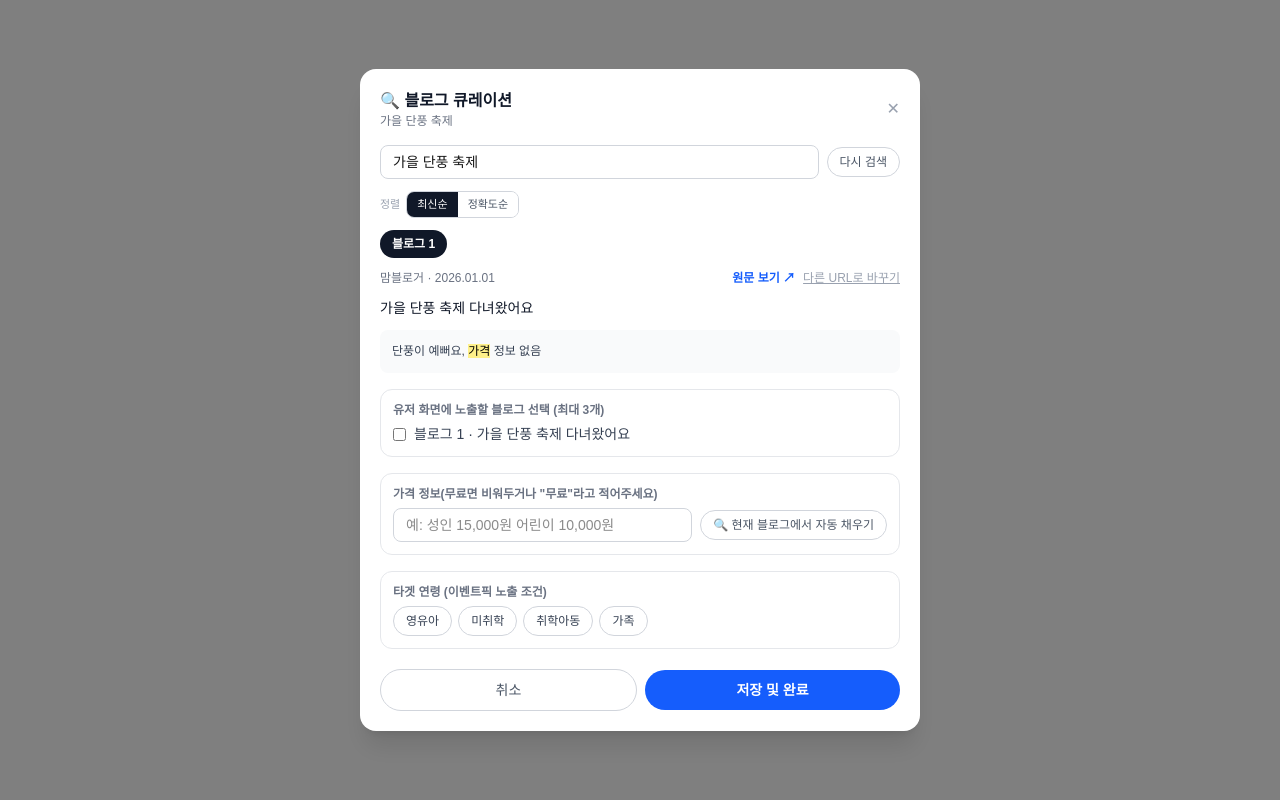
it: EventBlogCurationModal › 블로그에서 가격을 찾지 못하면 안내 문구를 보여주고 입력란은 그대로 둔다
Expected: the text "가을 단풍 축제 다녀왔어요" is shown, x1=380 y1=300 x2=533 y2=316
Click the button "🔍 현재 블로그에서 자동 채우기" at (794, 525), box x1=700 y1=510 x2=887 y2=540
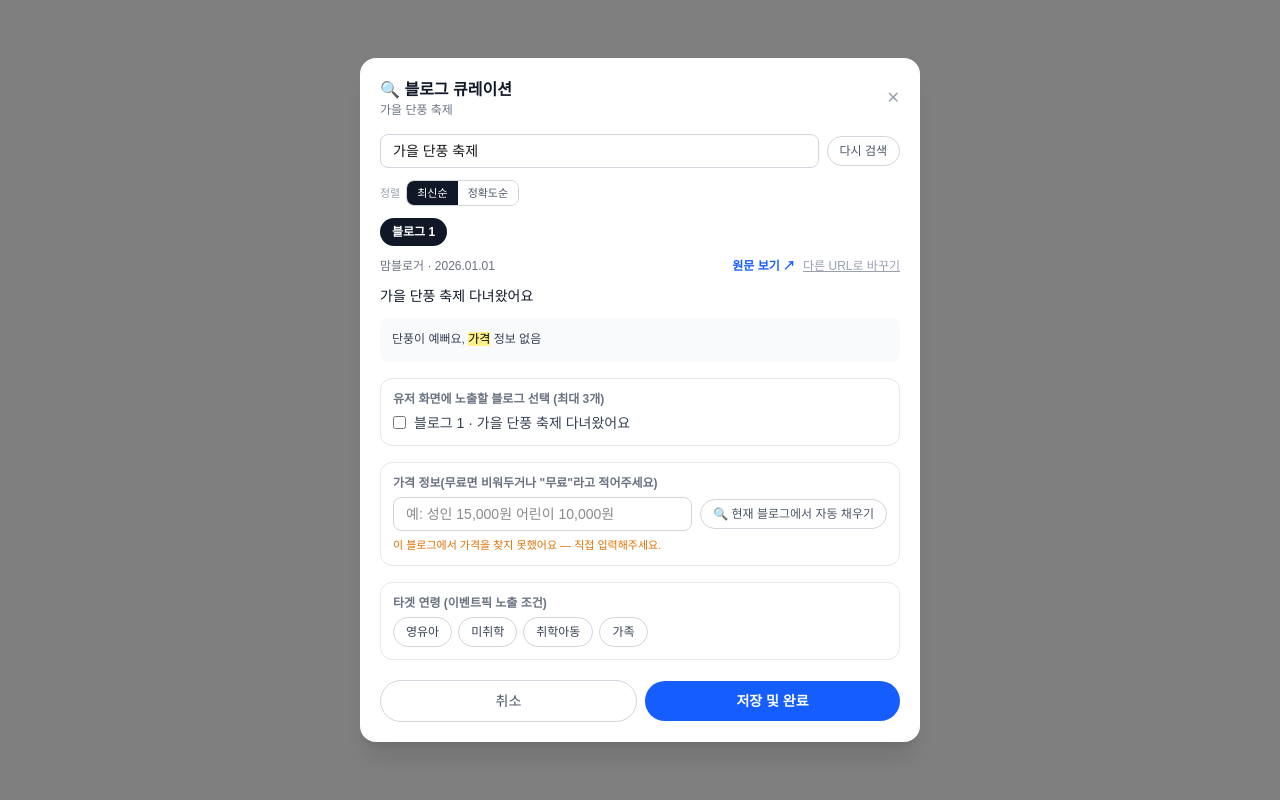
Expected: the field labelled "가격 정보(무료면 비워두거나 \"무료\"라고 적어주세요)" is empty, x1=393 y1=497 x2=692 y2=531
Expected: the text "이 블로그에서 가격을 찾지 못했어요 — 직접 입력해주세요." is shown, x1=393 y1=539 x2=661 y2=551
